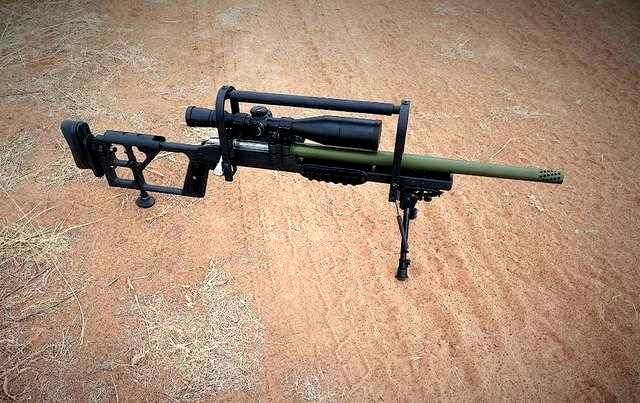rifle: (48, 80, 576, 283)
